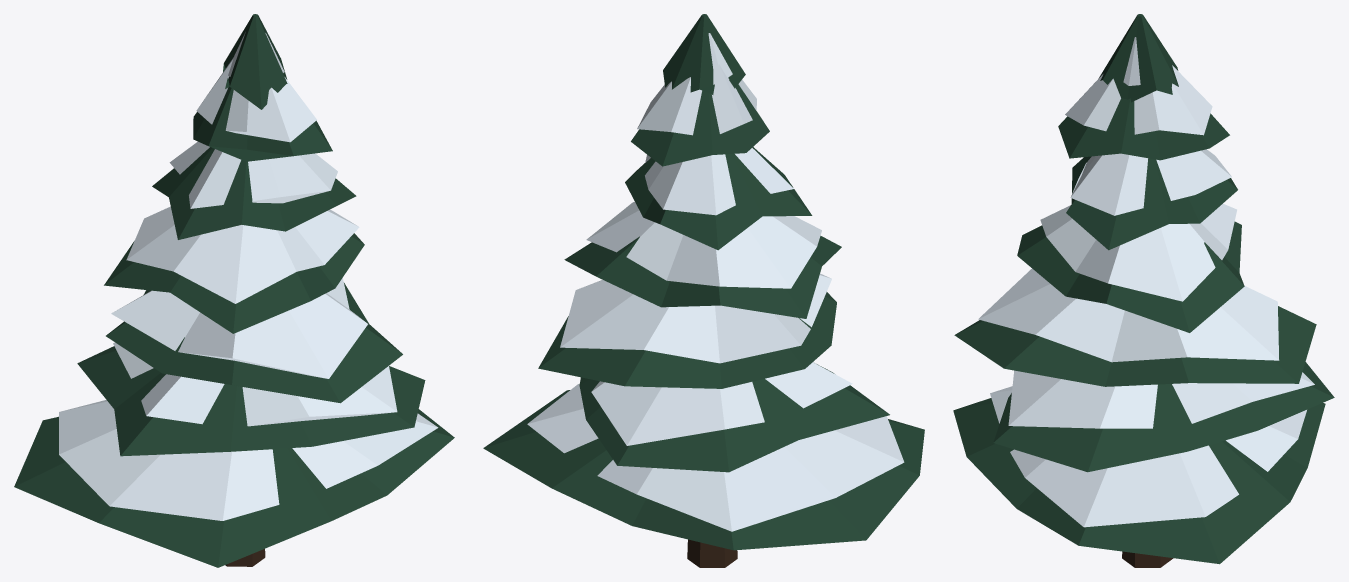
Rendered from Hut_Pine_6_0_-2.fbx.
3 renders of one model, left to right at view 1: azimuth 30°, elevation 25°; view 2: azimuth 150°, elevation 25°; view 3: azimuth 270°, elevation 25°, orthographic. The views are drawn at different scales.
Visible parts, largest first — view 1: Hut_Pine_6_0_-2; view 2: Hut_Pine_6_0_-2; view 3: Hut_Pine_6_0_-2.
Part boxes in pixels (x1,y1,x2,y2): Hut_Pine_6_0_-2: (14, 14, 454, 567); Hut_Pine_6_0_-2: (483, 14, 924, 567); Hut_Pine_6_0_-2: (953, 14, 1334, 567).
Bounding box in the file's own units: 455 × 611 × 385.
